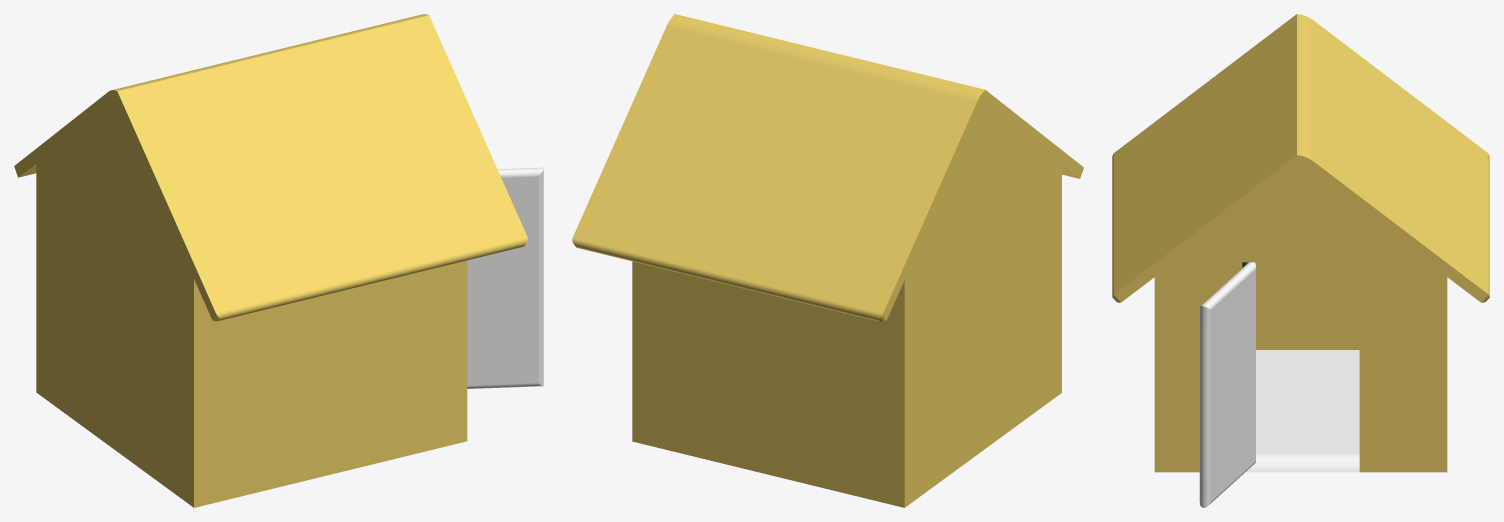
Rendered from about-house.glb.
3 renders of one model, left to right at view 1: azimuth 30°, elevation 25°; view 2: azimuth 150°, elevation 25°; view 3: azimuth 270°, elevation 25°, orthographic. The views are drawn at different scales.
Parts seen in each view (by area): view 1: Body8, Body4, Body16, Body2; view 2: Body8, Body4, Body3; view 3: Body8, Body3, Body1, Body16, Body2, Body4.
Boxes of the visible parts, x1,y1,x2,y2 form: Body8: (14, 14, 527, 321); Body4: (36, 164, 439, 507); Body16: (467, 167, 543, 388); Body2: (440, 260, 467, 447); Body8: (572, 14, 1083, 321); Body4: (659, 165, 1061, 507); Body3: (632, 261, 659, 447); Body8: (1112, 14, 1489, 302); Body3: (1359, 262, 1447, 472); Body1: (1245, 350, 1359, 472); Body16: (1199, 262, 1255, 507); Body2: (1154, 262, 1242, 472); Body4: (1255, 262, 1359, 349).
Size of the model in its own units: 6.31 by 5.78 by 5.91.
